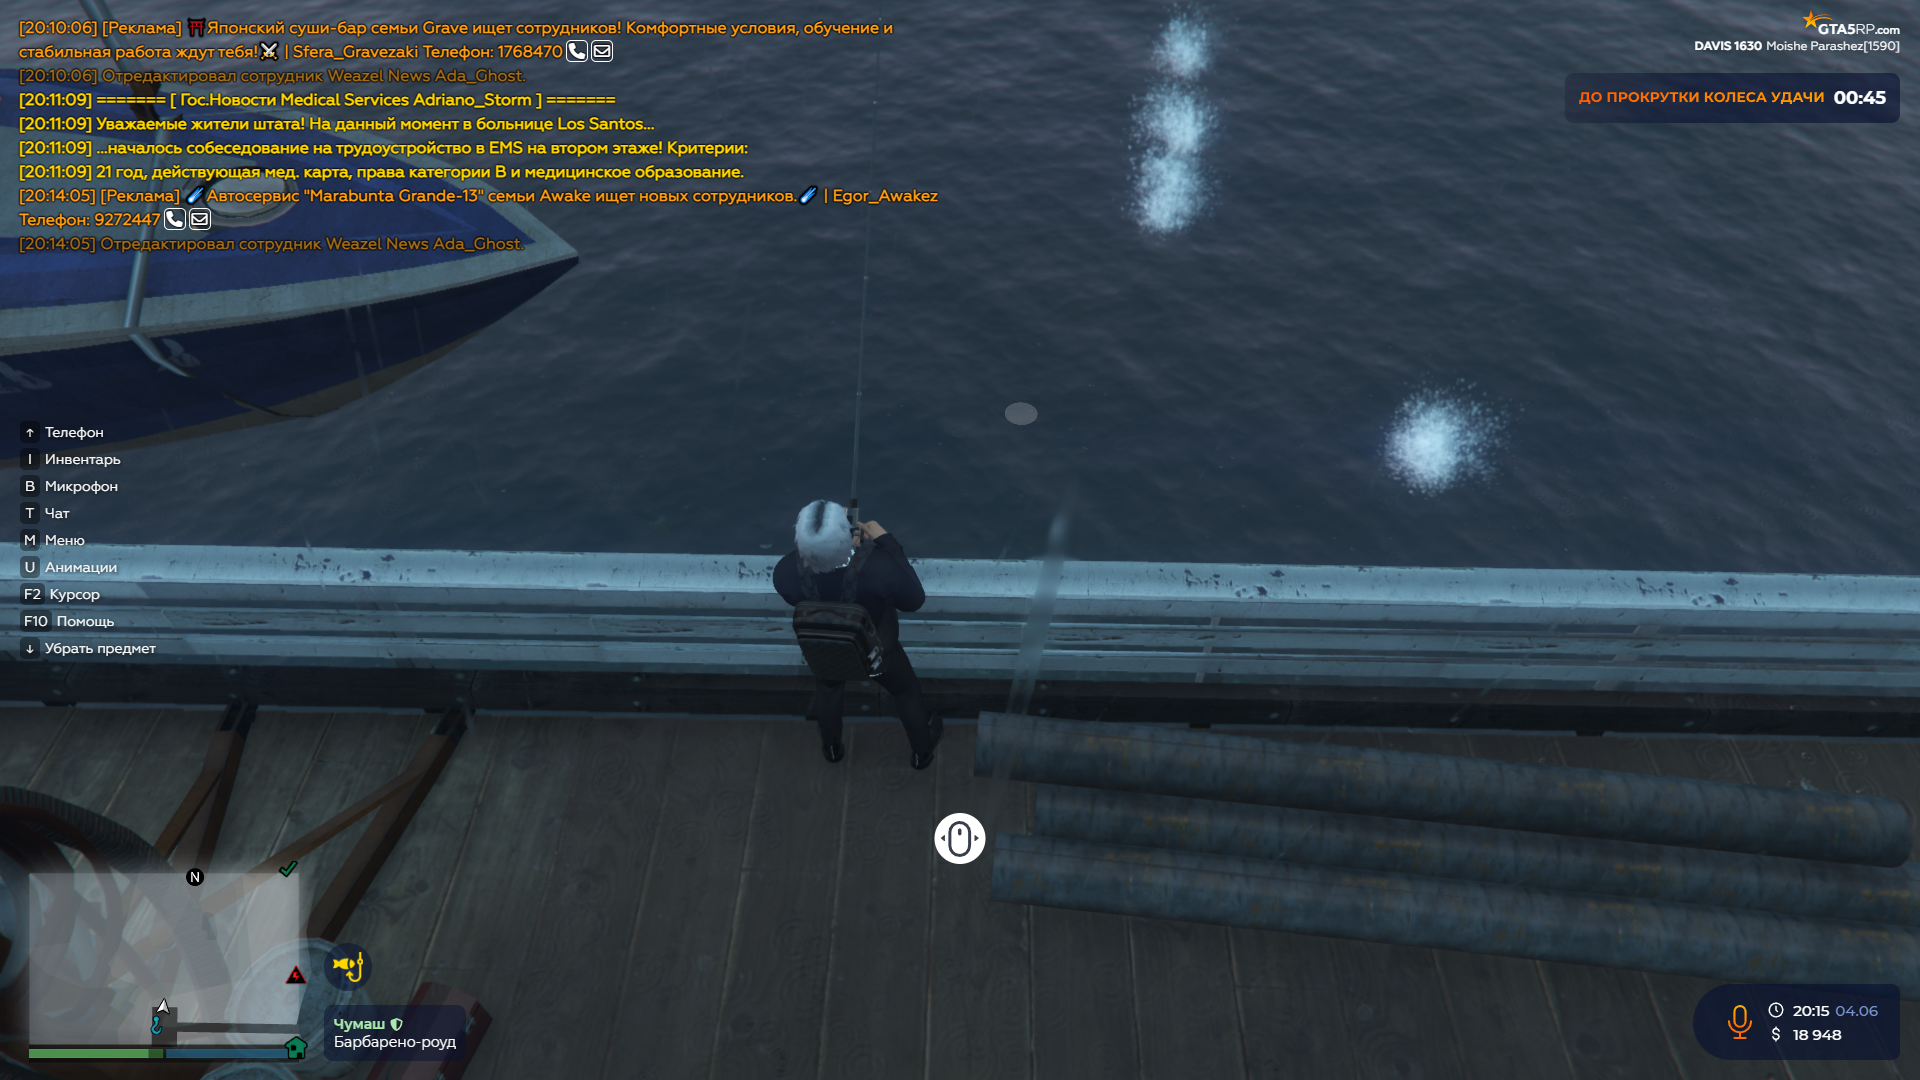circle: (1004, 400, 1039, 427)
